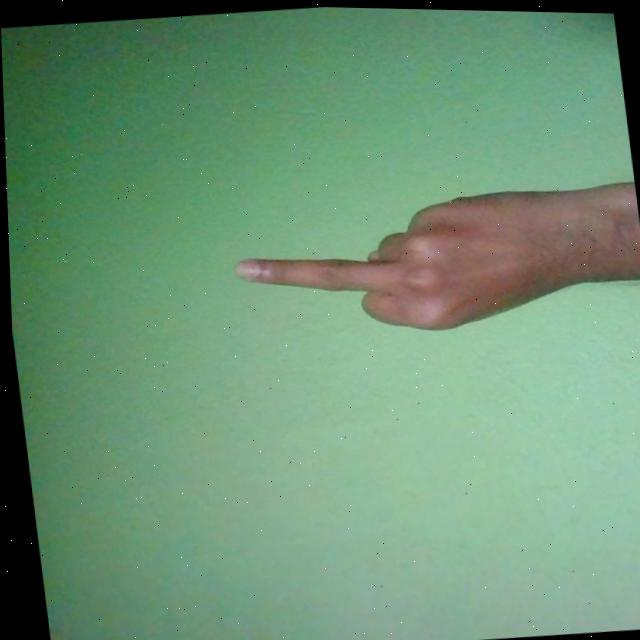Middle Finger: (223, 174, 634, 349)
